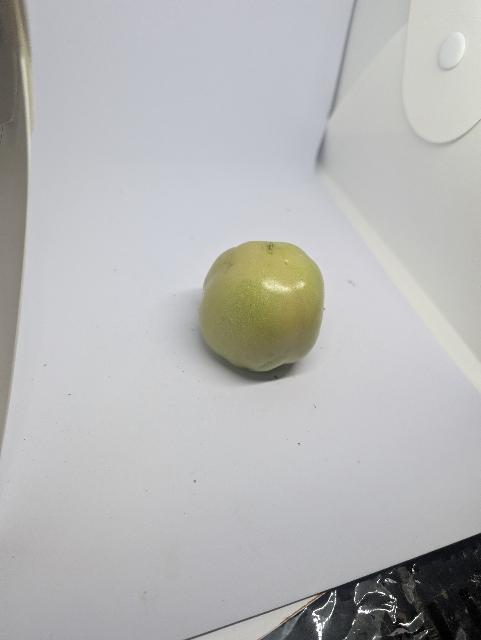green: (194, 218, 332, 375)
